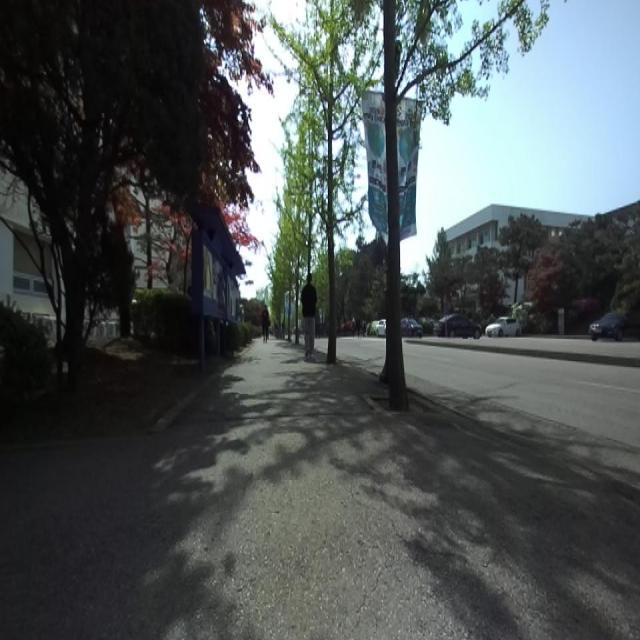sidewalk: (0, 340, 640, 638)
